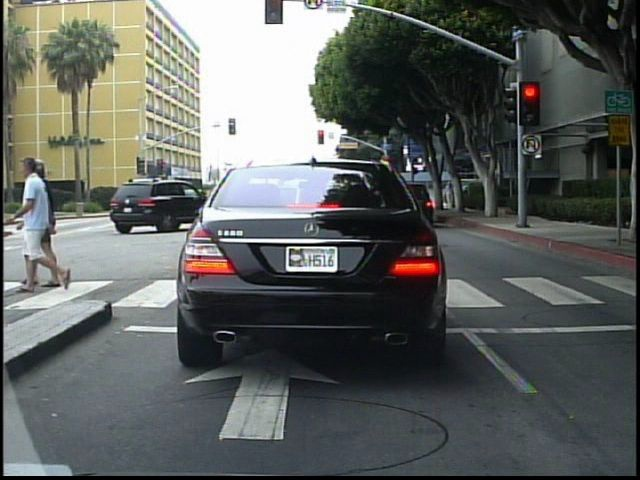person: (19, 150, 79, 297), (34, 152, 63, 293), (443, 179, 455, 212)
